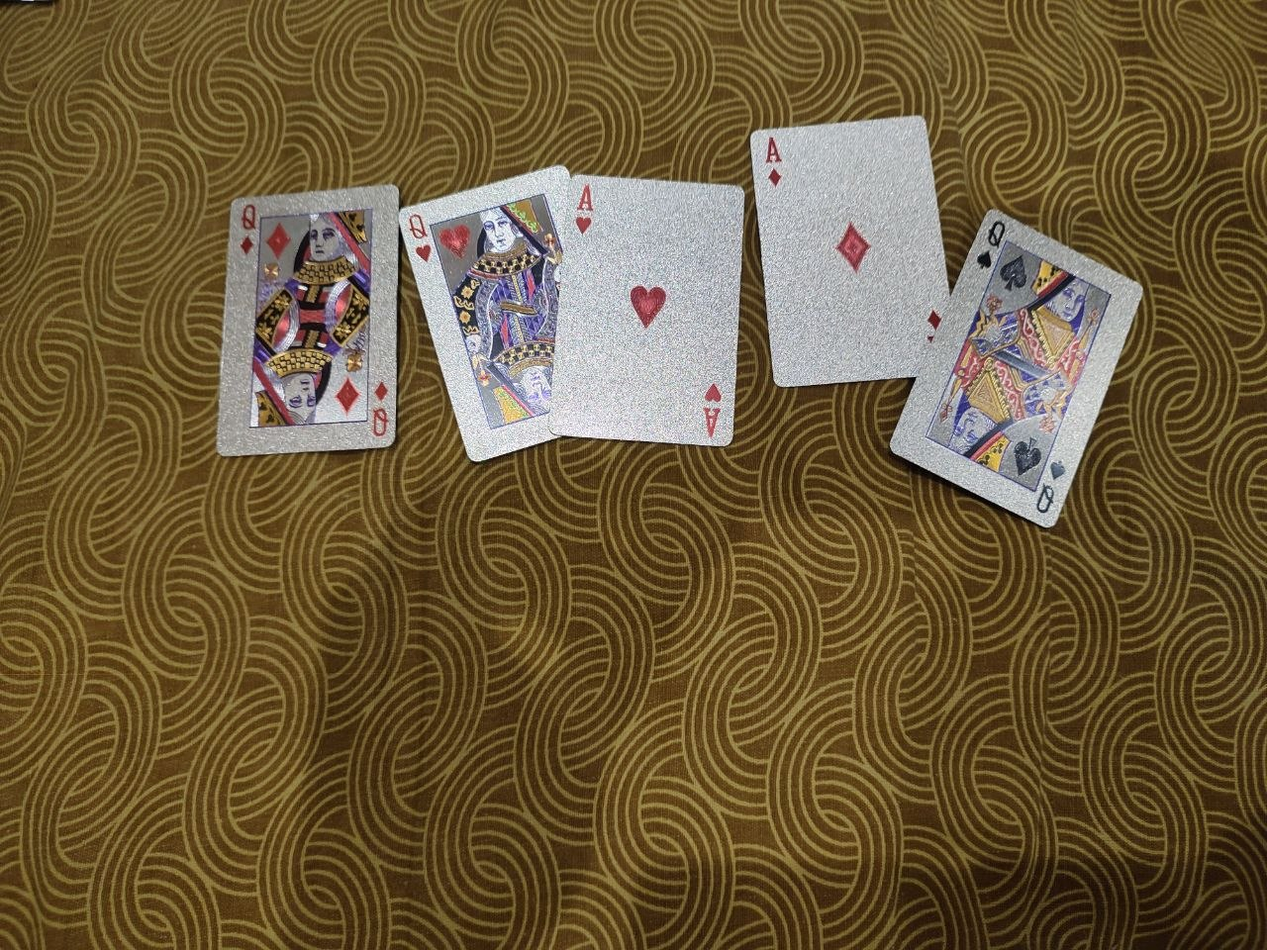AD: (749, 112, 951, 390)
AH: (549, 172, 746, 449)
QD: (215, 183, 401, 455)
QH: (402, 164, 573, 464)
QS: (885, 207, 1145, 531)
